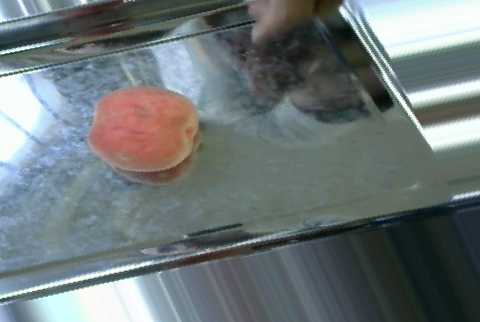Peach: (90, 86, 199, 173)
